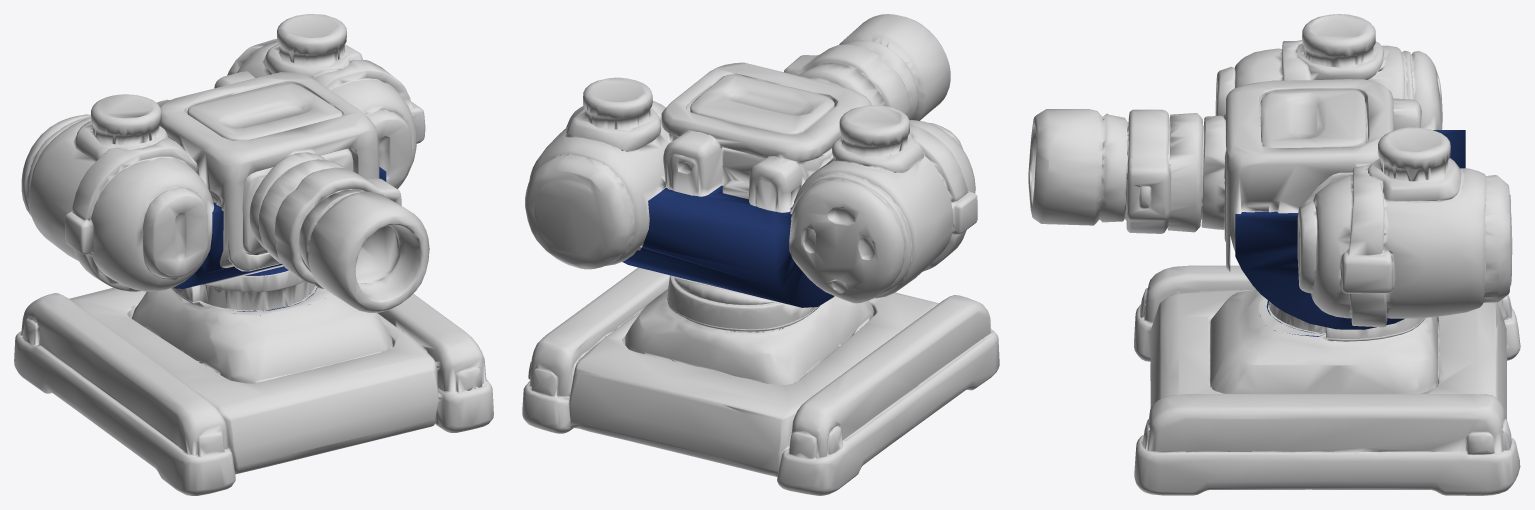
Rendered from cryo-flamethrower-turret.glb.
The picture shows the model from 3 angles, left to right: view 1: azimuth 30°, elevation 25°; view 2: azimuth 150°, elevation 25°; view 3: azimuth 270°, elevation 25°; orthographic projection. The views are drawn at different scales.
Visible parts, largest first — view 1: pitch_assembly, base, yaw_head; view 2: pitch_assembly, base, yaw_head; view 3: pitch_assembly, base, yaw_head.
Boxes of the visible parts, x1=… form: pitch_assembly: x1=21, y1=14, x2=429, y2=312; base: x1=14, y1=286, x2=493, y2=495; yaw_head: x1=172, y1=264, x2=330, y2=315; pitch_assembly: x1=525, y1=14, x2=977, y2=307; base: x1=522, y1=267, x2=999, y2=495; yaw_head: x1=667, y1=275, x2=816, y2=329; pitch_assembly: x1=1028, y1=14, x2=1512, y2=329; base: x1=1134, y1=265, x2=1520, y2=495; yaw_head: x1=1258, y1=295, x2=1423, y2=338.
Bounding box in the file's own units: 1.75 × 1.41 × 1.9.
